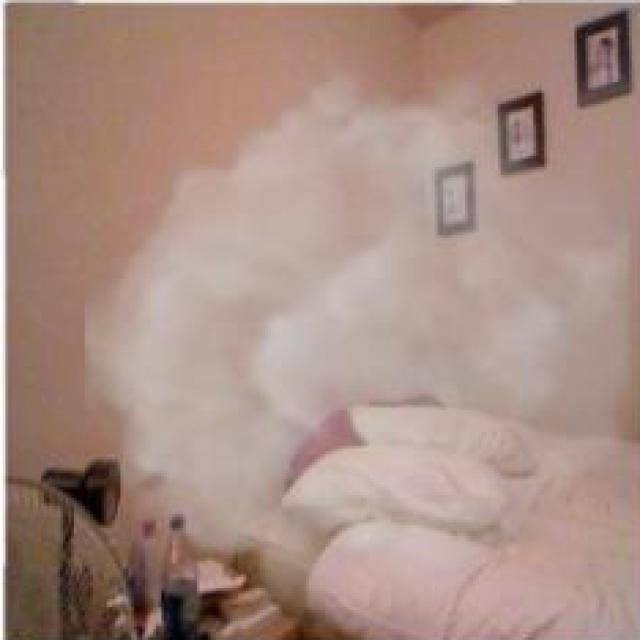fire: (85, 48, 632, 622)
